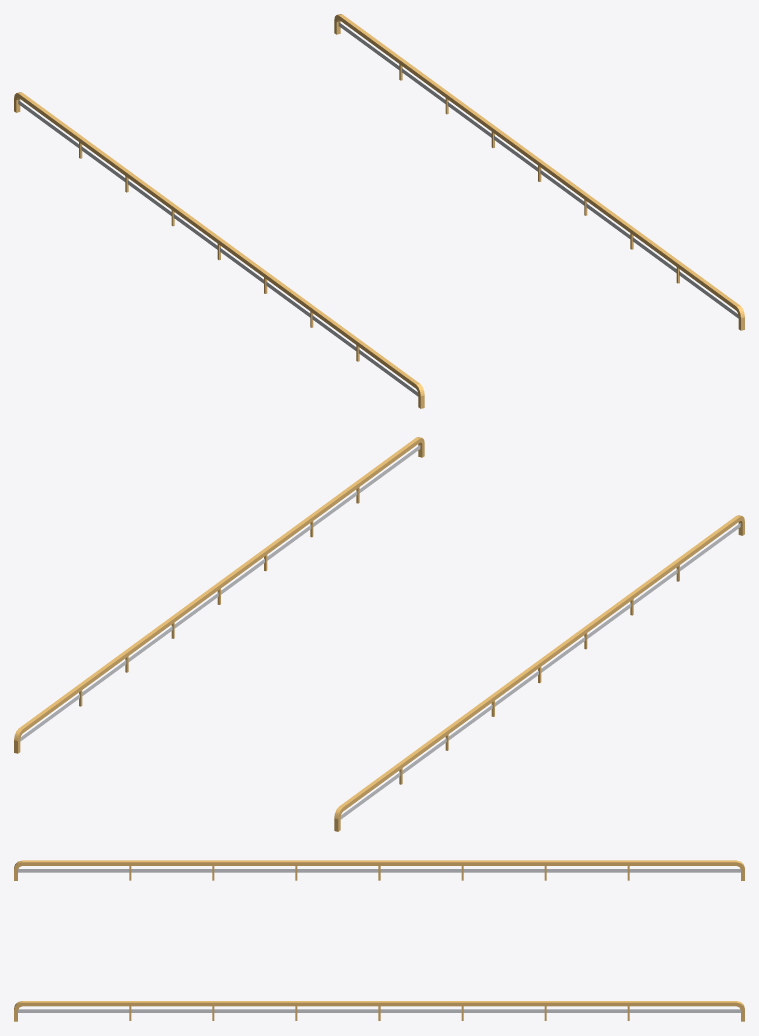
Rendered from road_straight_no_rocks.glb.
3 views of the same model, one above another, from view 1: azimuth 30°, elevation 25°; view 2: azimuth 150°, elevation 25°; view 3: azimuth 270°, elevation 25° (orthographic). The views are drawn at different scales.
Parts seen in each view (by area): view 1: RoadStraight; view 2: RoadStraight; view 3: RoadStraight.
Boxes of the visible parts, left/top/right/bottom form: RoadStraight: left=14, top=14, right=744, bottom=408; RoadStraight: left=14, top=437, right=744, bottom=831; RoadStraight: left=14, top=860, right=744, bottom=1021.
Size of the model in its own units: 4.05 by 0.25 by 8.8.
